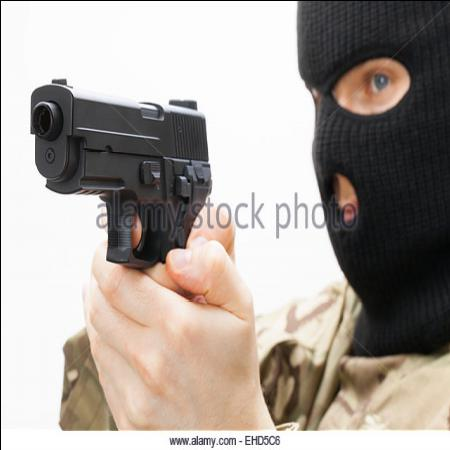Pistol: (25, 72, 212, 268)
